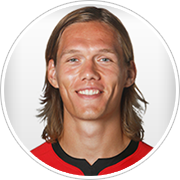smile: (73, 86, 105, 99)
